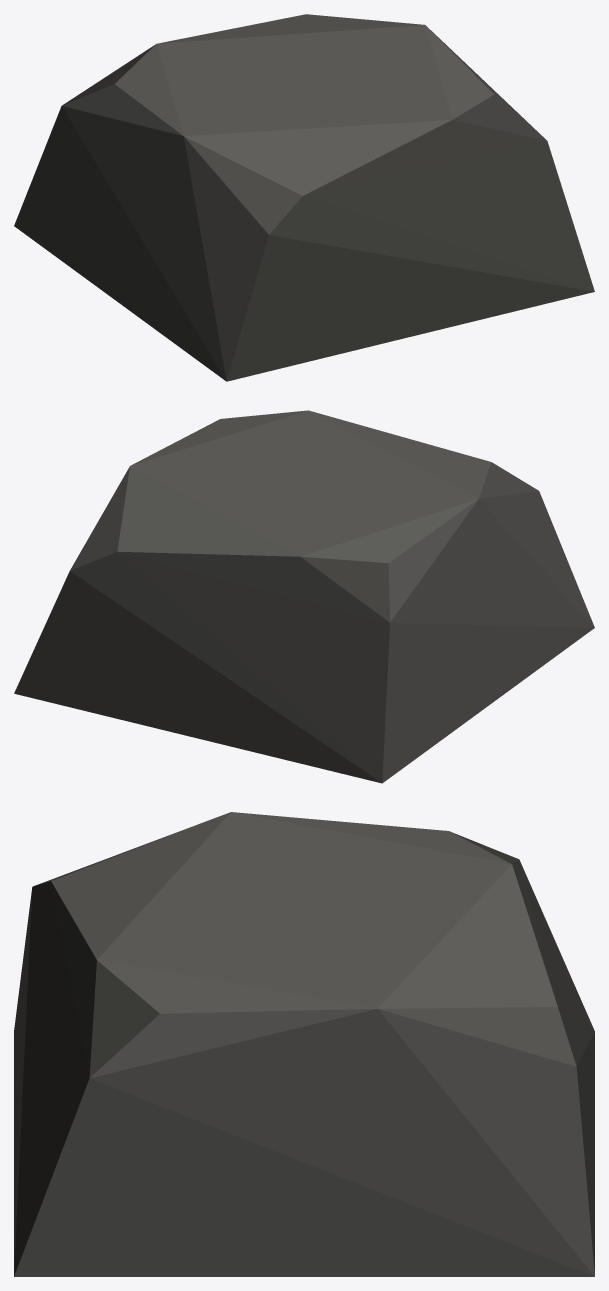
File: SM_Prop_Rock_06.fbx
The picture shows the model from 3 angles, top to bottom: view 1: azimuth 30°, elevation 25°; view 2: azimuth 150°, elevation 25°; view 3: azimuth 270°, elevation 25°; orthographic projection. The views are drawn at different scales.
Parts seen in each view (by area): view 1: SM_Prop_Rock_06; view 2: SM_Prop_Rock_06; view 3: SM_Prop_Rock_06.
Boxes of the visible parts, box(x1,y1,x2,y2) form: SM_Prop_Rock_06: box(14, 14, 594, 381); SM_Prop_Rock_06: box(14, 410, 594, 783); SM_Prop_Rock_06: box(14, 812, 594, 1276).
Size of the model in its own units: 20.05 by 9.28 by 20.05.
